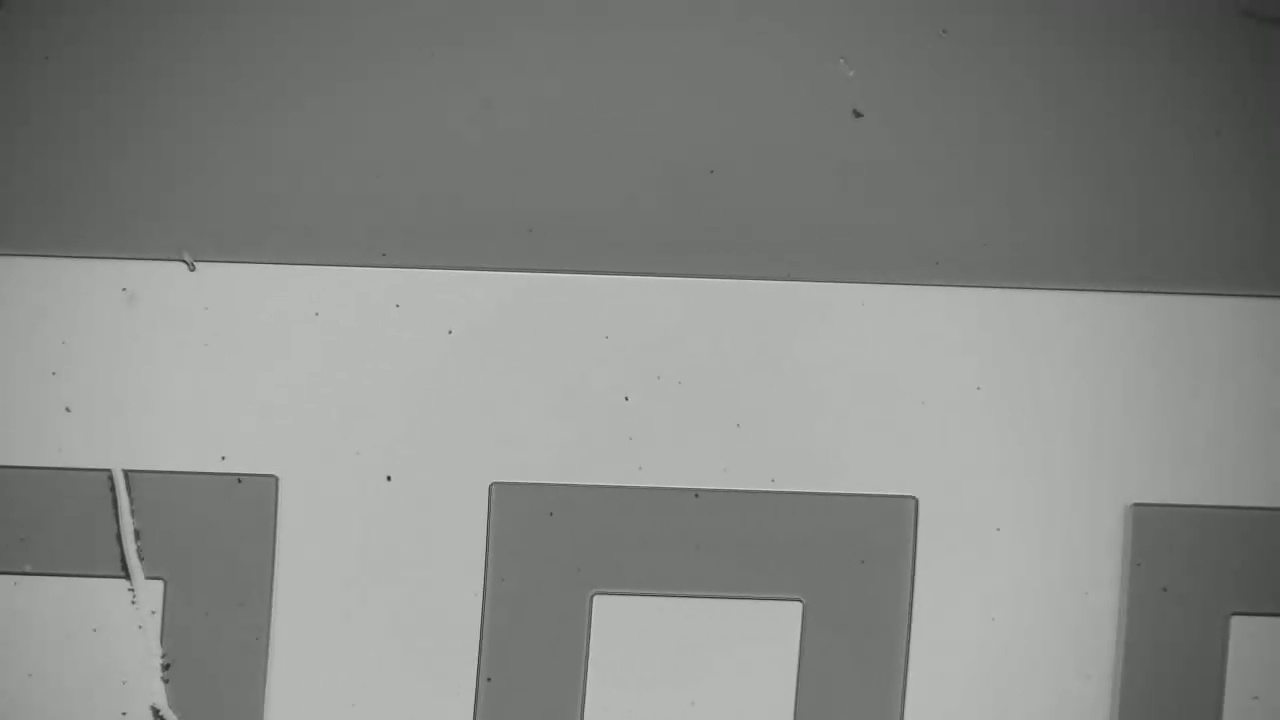Short_circuit: (97, 445, 151, 592)
